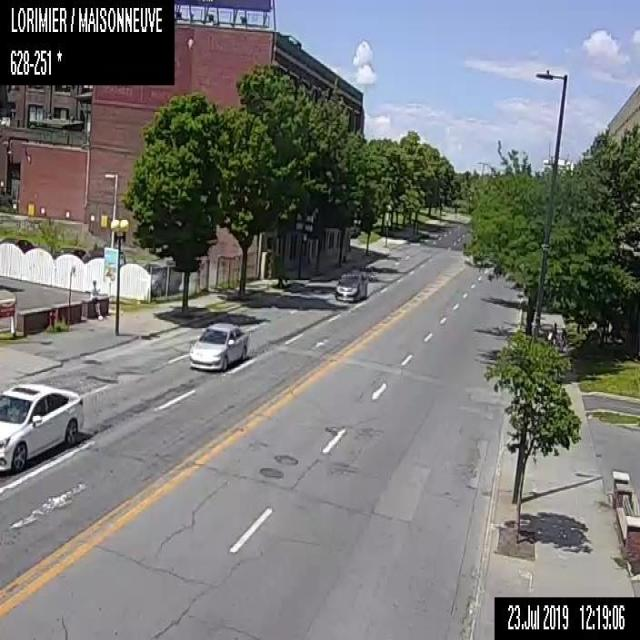pedestrian: (91, 279, 102, 319), (546, 320, 556, 347), (560, 326, 566, 352)
vehicle: (0, 381, 85, 475), (189, 321, 248, 372), (333, 268, 368, 303)
